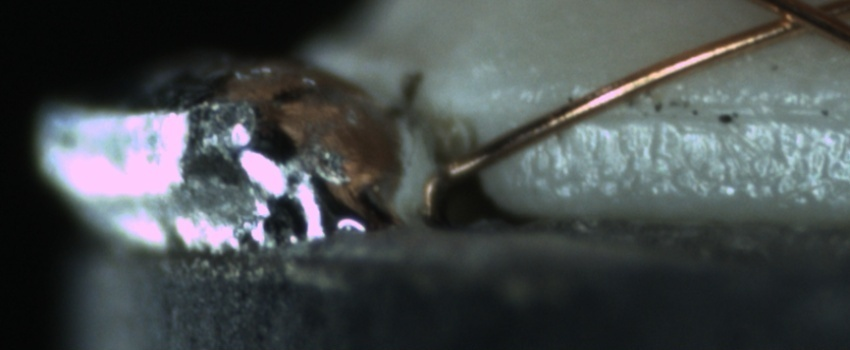CL: (739, 0, 848, 41)
DL: (545, 76, 846, 143)
